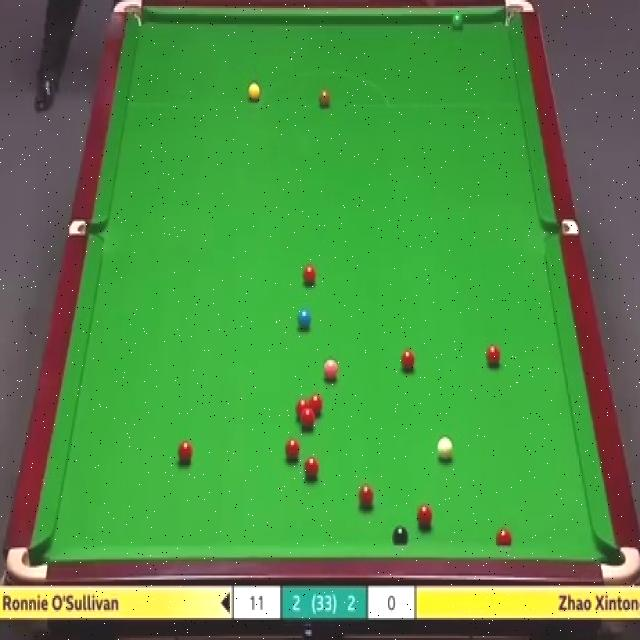black-ball: (390, 525, 408, 548)
blue-ball: (296, 308, 312, 333)
brown-ball: (316, 87, 331, 110)
green-ball: (451, 12, 466, 30)
pink-ball: (323, 355, 339, 382)
red-ball: (302, 456, 320, 484), (400, 347, 417, 375), (177, 440, 194, 467), (416, 504, 432, 531), (284, 436, 300, 462), (357, 483, 373, 508), (302, 265, 318, 289), (486, 343, 501, 368), (310, 394, 324, 419), (497, 526, 512, 546), (296, 398, 309, 419), (302, 410, 314, 430)
white-ball: (436, 436, 454, 464)
yellow-ball: (246, 82, 260, 102)
